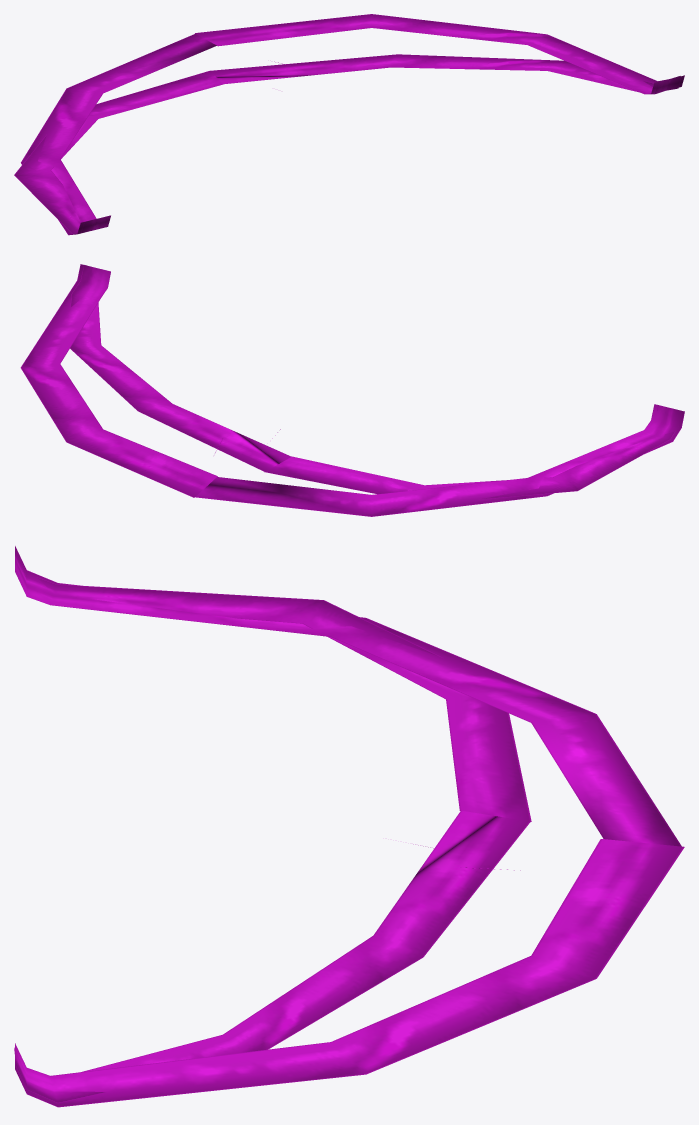
The model's file is vines_hanging_recolortest.glb.
The picture shows the model from 3 angles, top to bottom: view 1: azimuth 30°, elevation 25°; view 2: azimuth 150°, elevation 25°; view 3: azimuth 270°, elevation 25°; orthographic projection. The views are drawn at different scales.
Visible parts, largest first — view 1: plants.vines_hanging_recolortest-MeshSets[Loft04].Mesh[0], plants.vines_hanging_recolortest-MeshSets[Loft02].Mesh[0]; view 2: plants.vines_hanging_recolortest-MeshSets[Loft04].Mesh[0], plants.vines_hanging_recolortest-MeshSets[Loft02].Mesh[0]; view 3: plants.vines_hanging_recolortest-MeshSets[Loft04].Mesh[0], plants.vines_hanging_recolortest-MeshSets[Loft02].Mesh[0].
Part boxes in pixels (<box>): plants.vines_hanging_recolortest-MeshSets[Loft04].Mesh[0]: <box>21,14,672,235</box>; plants.vines_hanging_recolortest-MeshSets[Loft02].Mesh[0]: <box>14,54,680,233</box>; plants.vines_hanging_recolortest-MeshSets[Loft04].Mesh[0]: <box>20,264,684,516</box>; plants.vines_hanging_recolortest-MeshSets[Loft02].Mesh[0]: <box>70,265,675,499</box>; plants.vines_hanging_recolortest-MeshSets[Loft04].Mesh[0]: <box>15,546,684,1107</box>; plants.vines_hanging_recolortest-MeshSets[Loft02].Mesh[0]: <box>14,549,531,1102</box>.
Size of the model in its own units: 3.16 by 0.1217 by 1.71.
Materials: 1 (1 with a texture image).
